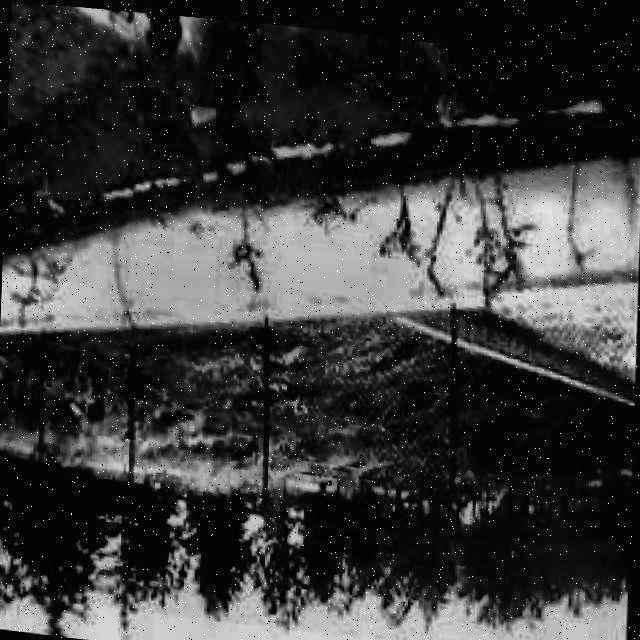Fire: (88, 6, 204, 63)
